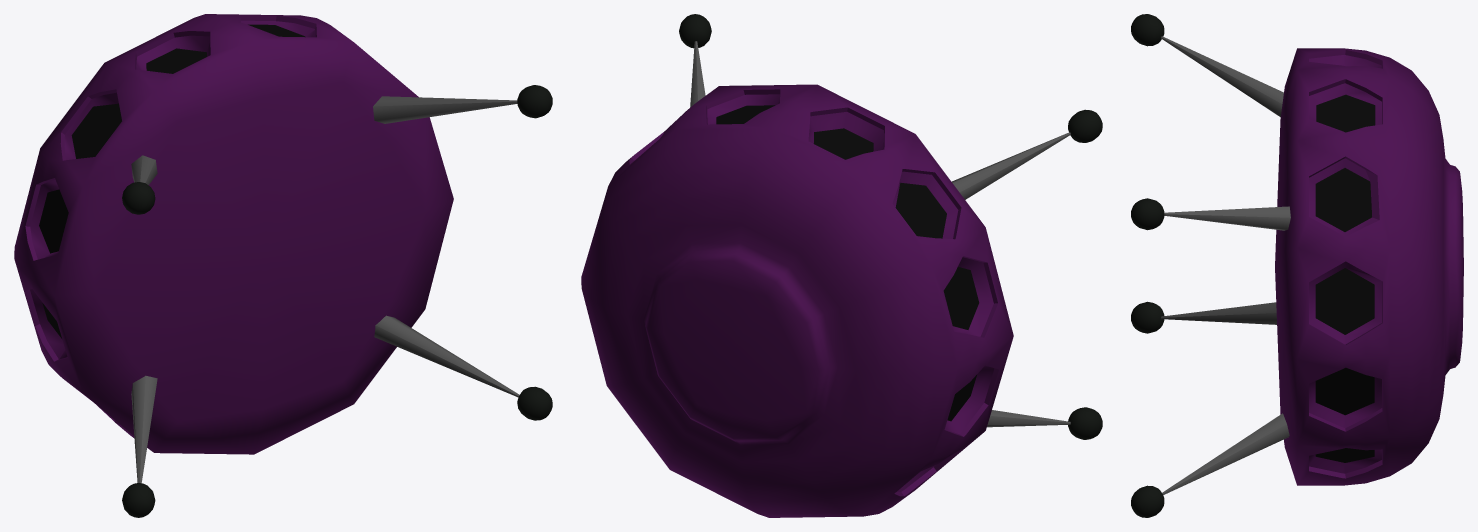
File: ShipAlien1.FBX
3 renders of one model, left to right at view 1: azimuth 30°, elevation 25°; view 2: azimuth 150°, elevation 25°; view 3: azimuth 270°, elevation 25°, orthographic. The views are drawn at different scales.
Visible parts, largest first — view 1: Cylinder022; view 2: Cylinder022; view 3: Cylinder022.
Part boxes in pixels (left/top/right/bottom): Cylinder022: left=14, top=14, right=552, bottom=517; Cylinder022: left=581, top=14, right=1102, bottom=517; Cylinder022: left=1131, top=14, right=1463, bottom=517.
Size of the model in its own units: 89.15 by 82.82 by 63.44.
